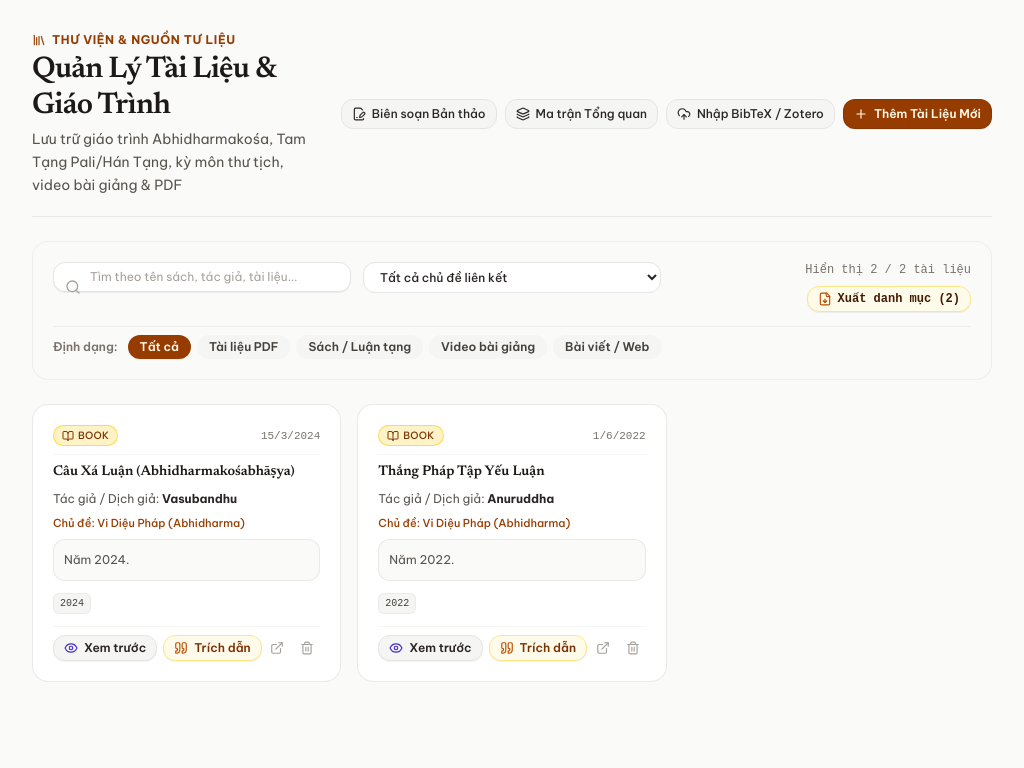
Test: Scholar Batch Citation Modal UI Integration › 3. Nhấn nút xuất danh mục trên Toolbar mở BatchCitationModal
Click the button "Xuất danh mục (2)".
click(889, 299)  # box [807, 286, 971, 312]
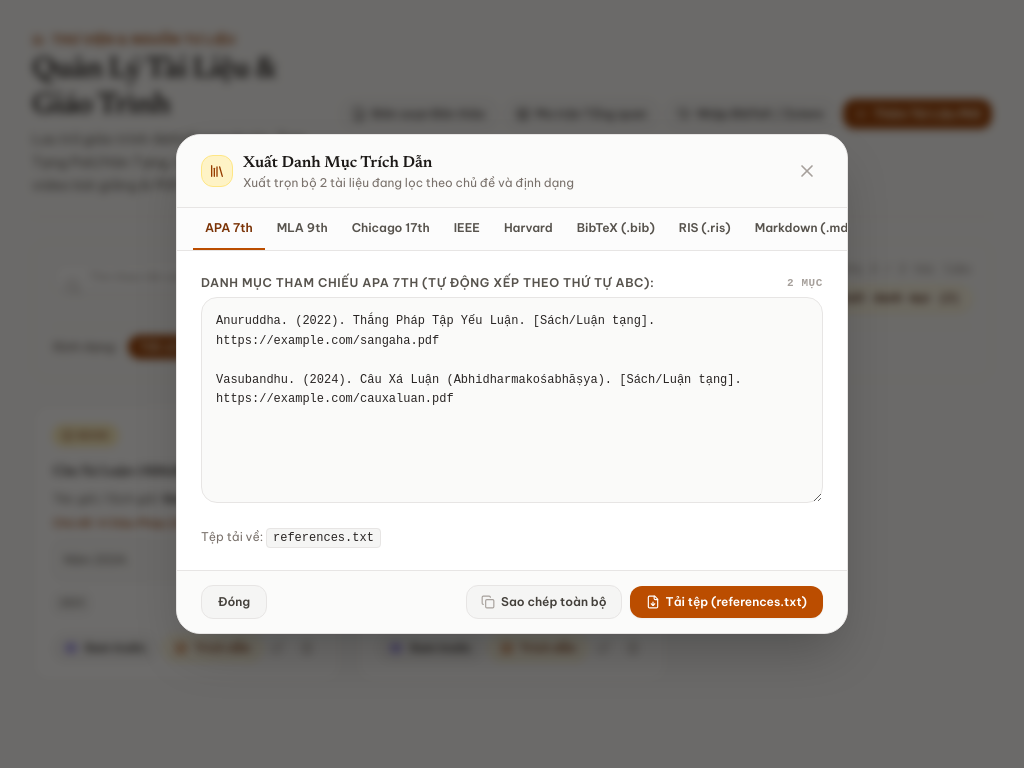
Check: the heading "Xuất Danh Mục Trích Dẫn" is shown, box [243, 155, 432, 171]
